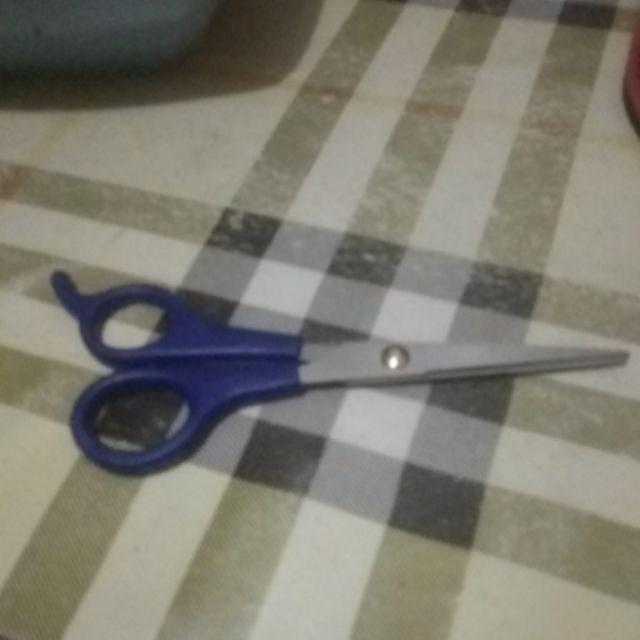scissor: (24, 220, 640, 483)
